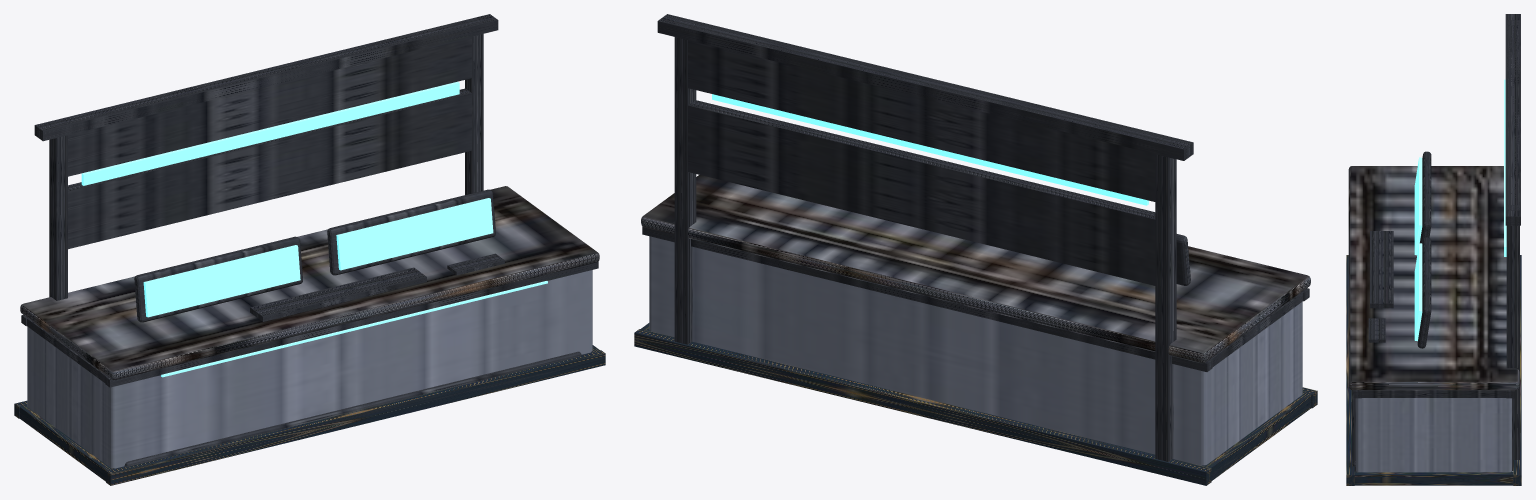
File: cam_opsdesk.glb
3 views of the same model, side by side, from view 1: azimuth 30°, elevation 25°; view 2: azimuth 150°, elevation 25°; view 3: azimuth 270°, elevation 25° (orthographic). The views are drawn at different scales.
Parts seen in each view (by area): view 1: sight_shell, body, top, shelltoe0, mon0_g, mon1_g, sightglow, shellrim0, kbd, mon0, mon1, kick (+4 smaller); view 2: sight_shell, body, top, shelltoe2, shellrim2, sightglow, shelltoes0, shellrims0; view 3: top, body, sight_shell, shelltoes2, kbd, shellrims2, shelltoe0, mon1, mon0, mon1_g, mon0_g, shelltoe2 (+3 smaller).
Part boxes in pixels (x1,y1,x2,y2): sight_shell: (34, 14, 498, 300); body: (27, 270, 592, 468); top: (20, 186, 599, 379); shelltoe0: (106, 350, 605, 485); mon0_g: (143, 245, 300, 317); mon1_g: (336, 198, 493, 270); sightglow: (81, 81, 459, 185); shellrim0: (105, 261, 598, 387); kbd: (250, 267, 426, 321); mon0: (134, 236, 302, 322); mon1: (327, 189, 495, 275); kick: (124, 351, 581, 466); sight_shell: (657, 14, 1193, 461); body: (649, 236, 1302, 465); top: (641, 175, 1310, 363); shelltoe2: (634, 329, 1211, 485); shellrim2: (642, 226, 1212, 371); sightglow: (712, 94, 1148, 205); shelltoes0: (1202, 391, 1311, 480); shellrims0: (1211, 292, 1303, 366); top: (1348, 166, 1519, 390); body: (1356, 398, 1511, 472); sight_shell: (1505, 14, 1520, 470); shelltoes2: (1354, 471, 1513, 485); kbd: (1370, 231, 1393, 308); shellrims2: (1361, 390, 1506, 397); shelltoe0: (1346, 255, 1354, 485); mon1: (1417, 237, 1431, 348); mon0: (1420, 151, 1431, 243); mon1_g: (1414, 243, 1422, 341); mon0_g: (1414, 157, 1422, 255); shelltoe2: (1513, 255, 1521, 485).
Bounding box in the file's own units: 3.08 × 1.7 × 1.04.
Materials: 6 (5 with a texture image).
